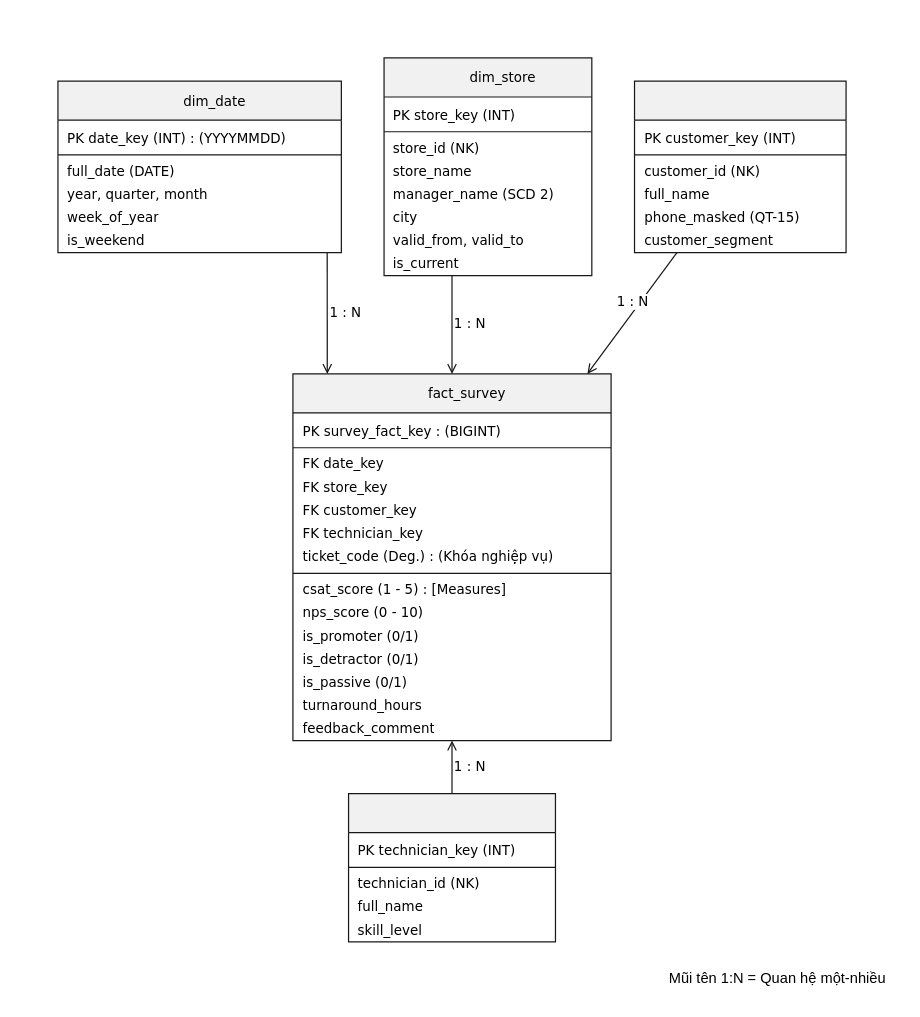
The diagram is 920 pixels wide and 1017 high, and some of its shapes have lost their labels. Here are the shapes that lost their labels. From the top down, the box of each, then its label:
(633, 80, 846, 253): dim_customer
(347, 792, 555, 942): dim_technician
